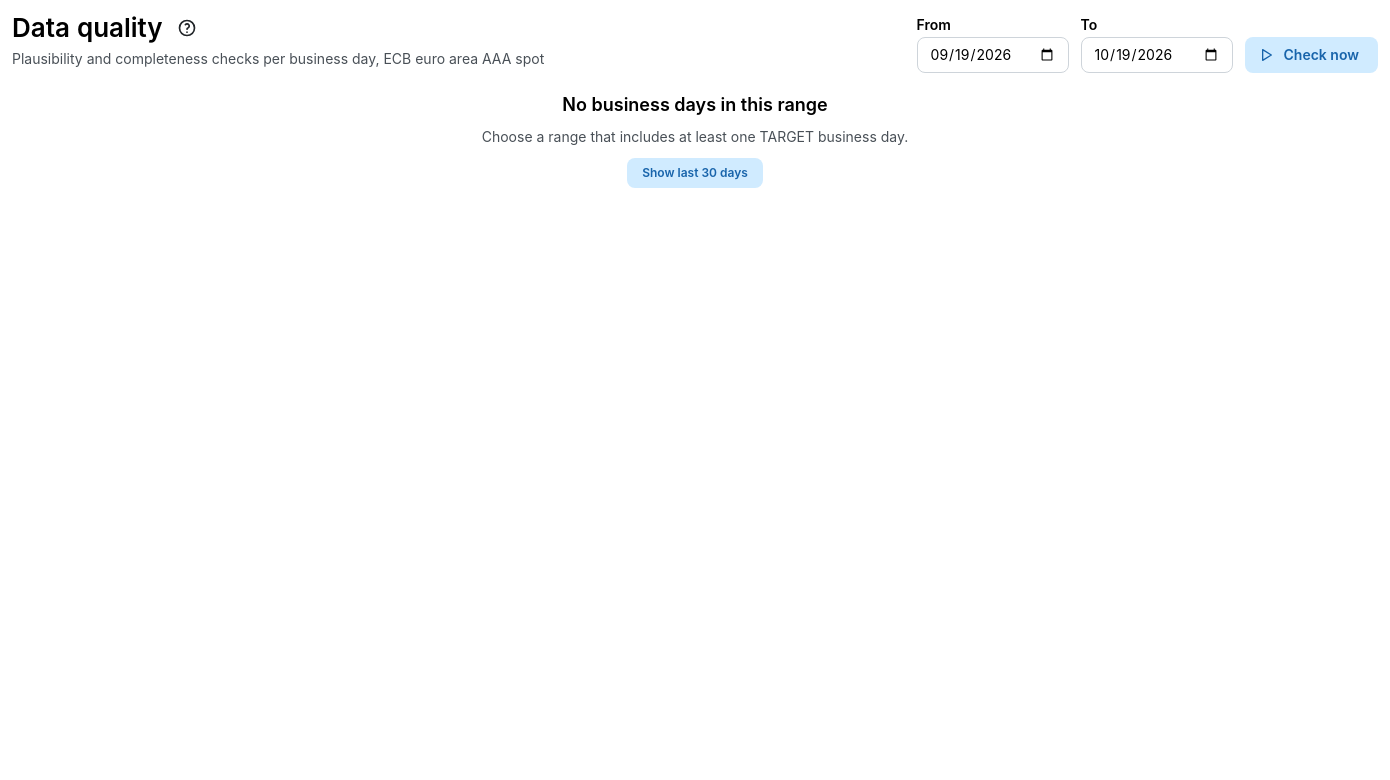
Test: QualityView › empty days shows the empty state; Show last 30 days refetches the default range
Expected: the text "No business days in this range" is shown, [562,93,828,116]
Click the button "Show last 30 days" at (695, 173), box [627,158,763,188]
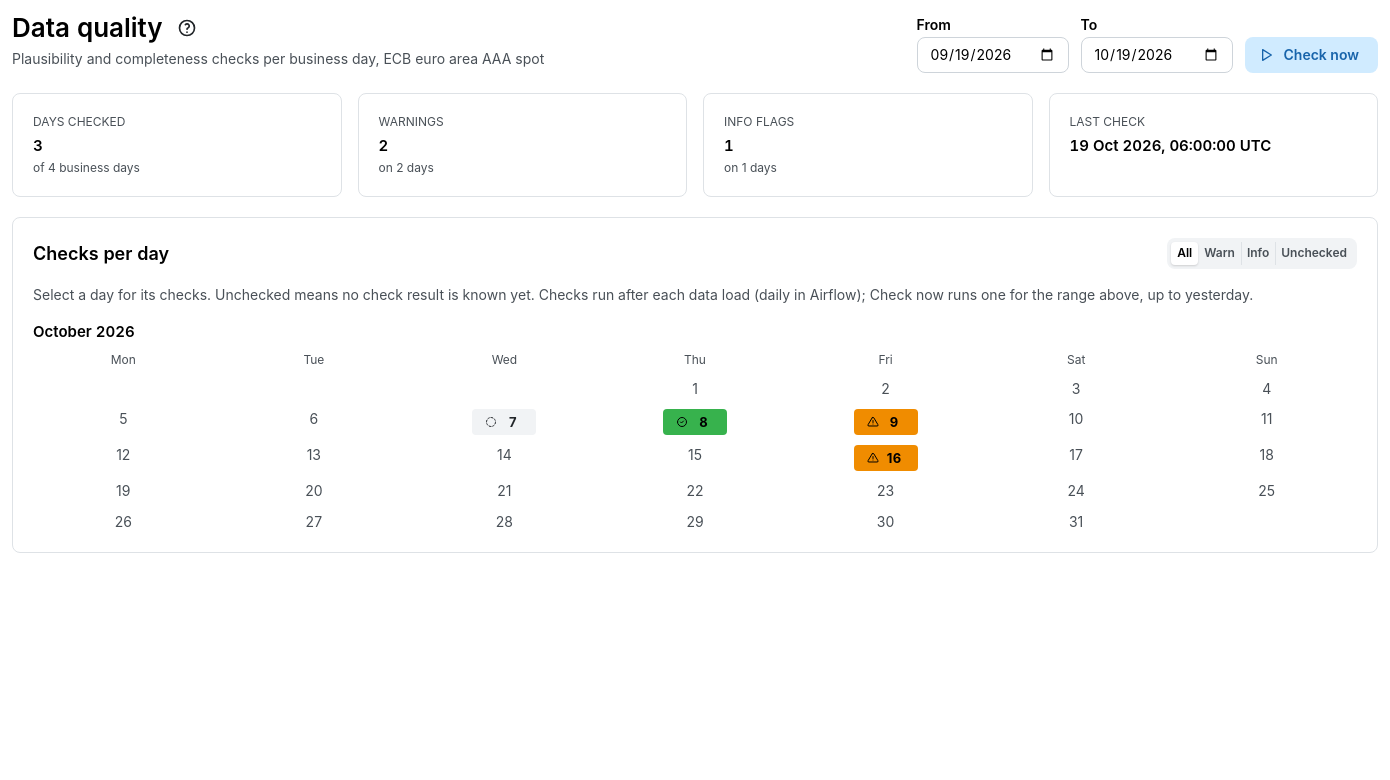
Expected: the button named "2026-10-16, Warn" is shown, [854,445,918,471]
